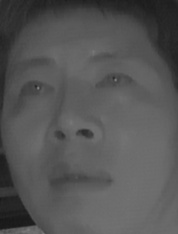eye: (15, 77, 57, 105), (94, 67, 135, 95)
mouth: (41, 156, 115, 201)
